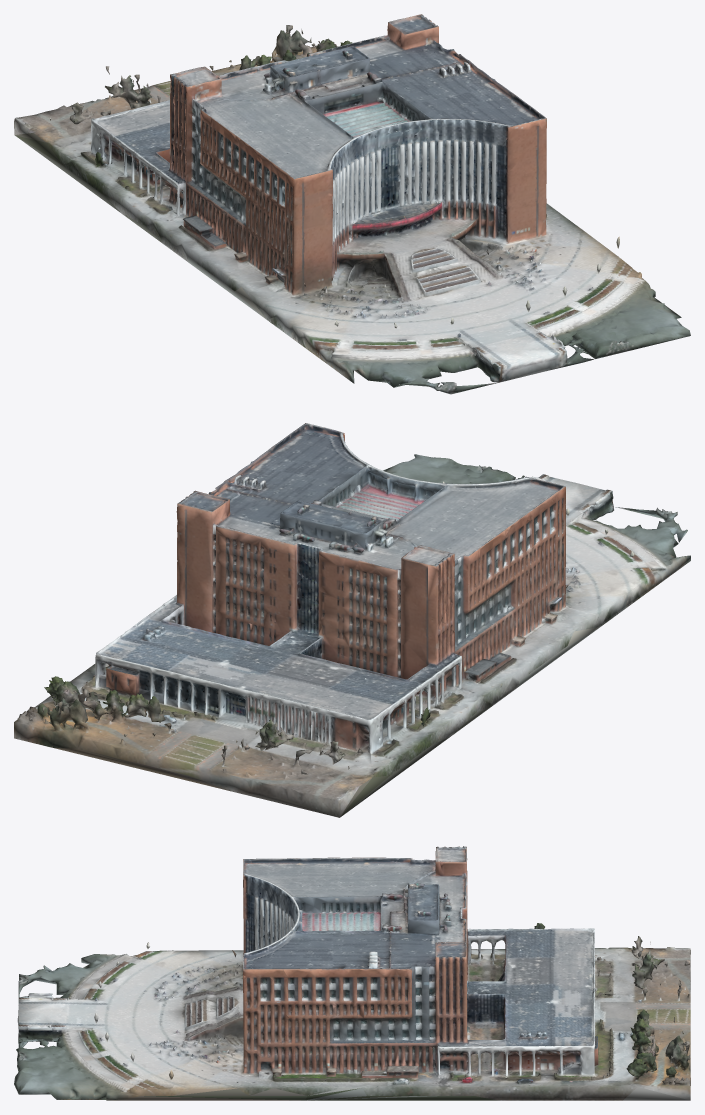
Rendered from TSG.fbx.
3 renders of one model, top to bottom at view 1: azimuth 30°, elevation 25°; view 2: azimuth 150°, elevation 25°; view 3: azimuth 270°, elevation 25°, orthographic. The views are drawn at different scales.
Visible parts, largest first — view 1: TSG; view 2: TSG; view 3: TSG.
Boxes of the visible parts, <box> form: TSG: <box>14,14,690,394</box>; TSG: <box>14,423,690,817</box>; TSG: <box>14,846,690,1100</box>.
Bounding box in the file's own units: 9544 × 4264 × 19761.
Materials: 1 (1 with a texture image).
